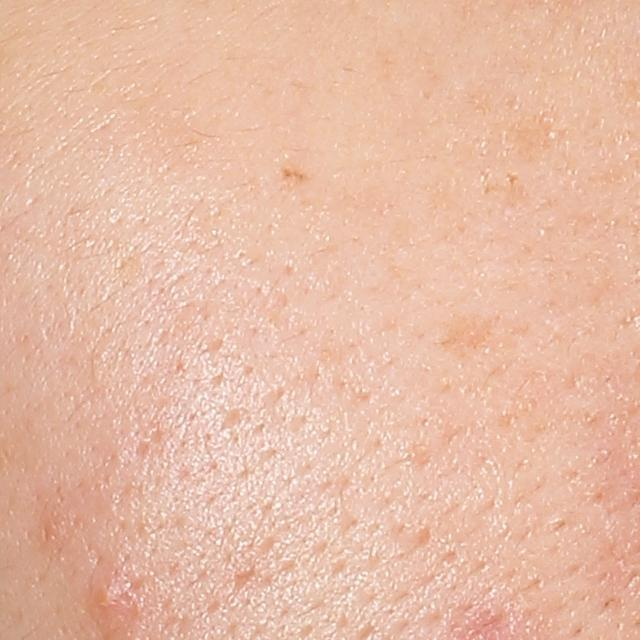melasma: (415, 307, 503, 360)
papule: (83, 565, 141, 627)
